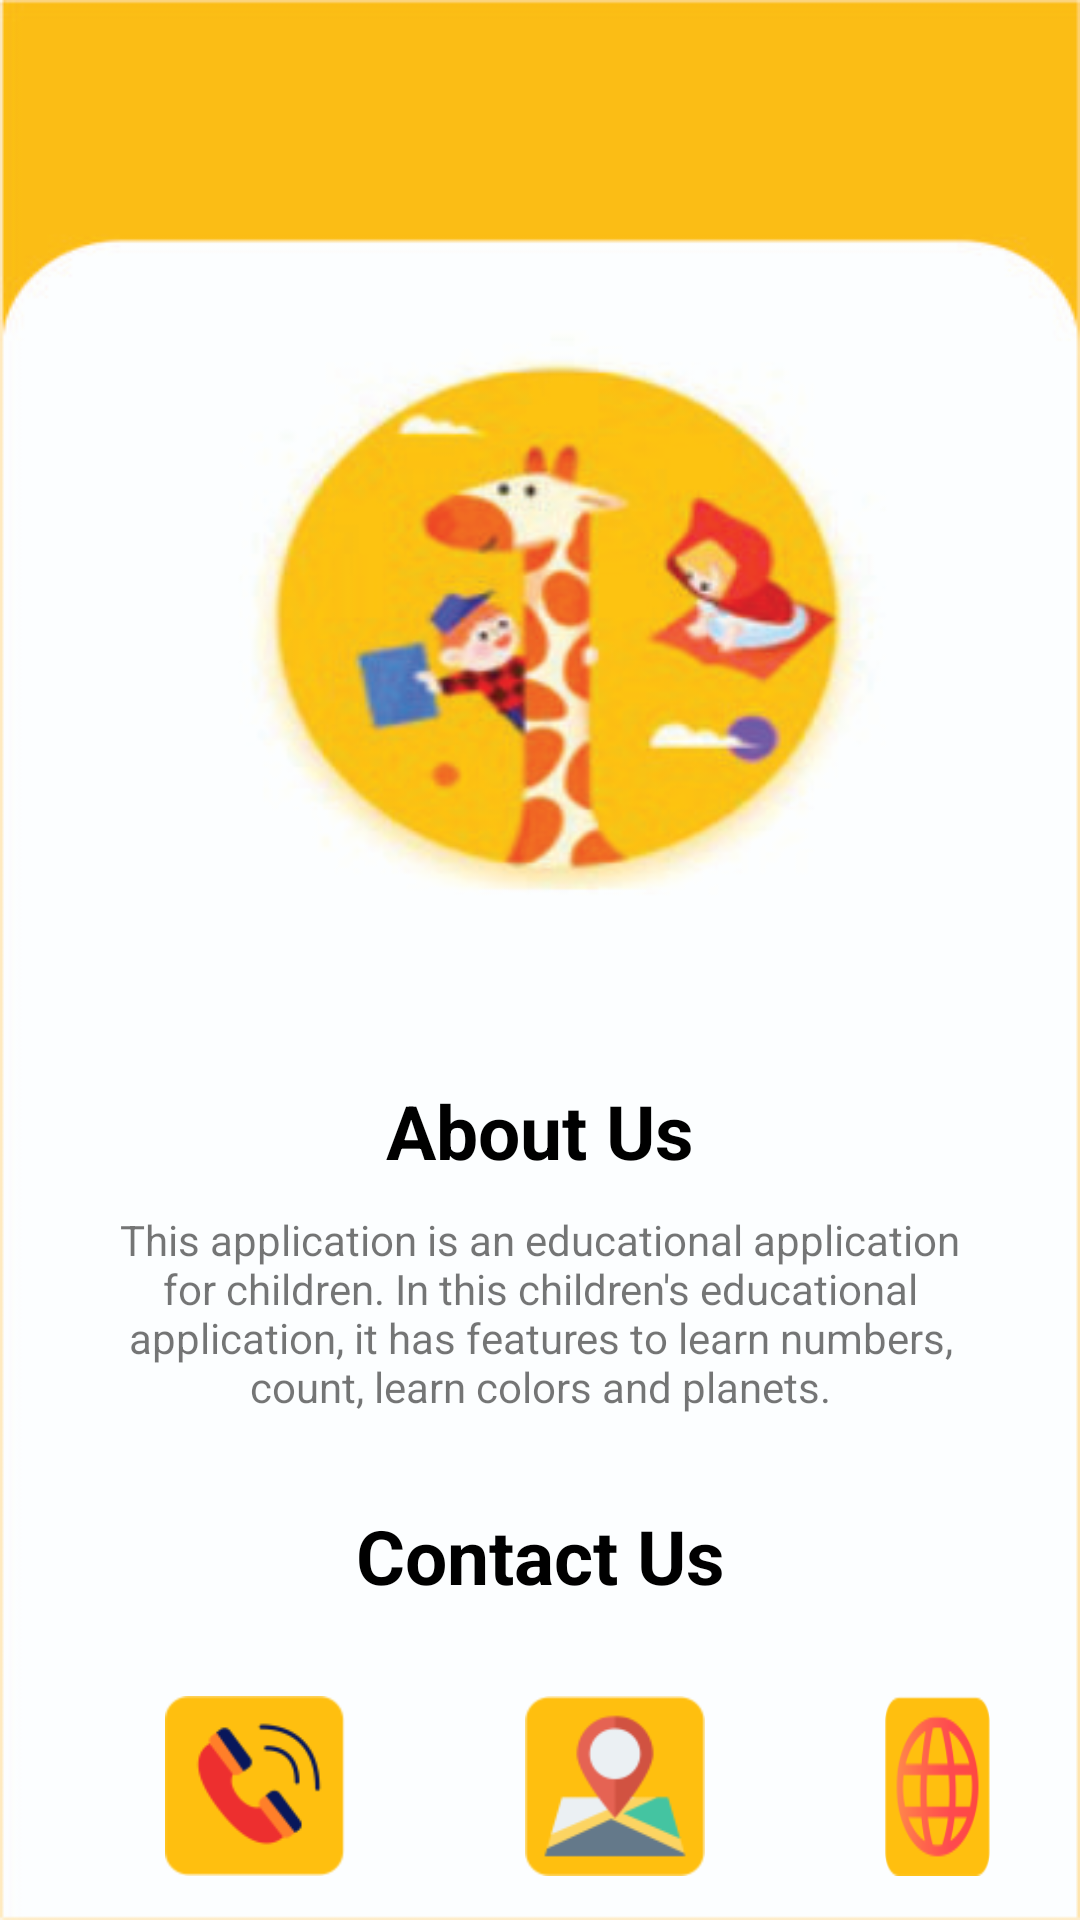

Icons on this 1080×1920 Android screen, each with its box as (x1, y1, x2, y2):
call: (165, 1696, 344, 1876)
location: (525, 1696, 705, 1876)
web: (885, 1697, 990, 1876)
